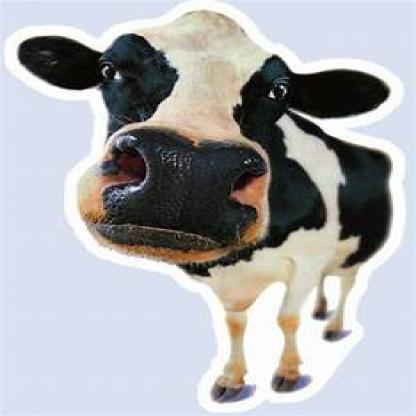cow: (11, 5, 414, 390)
